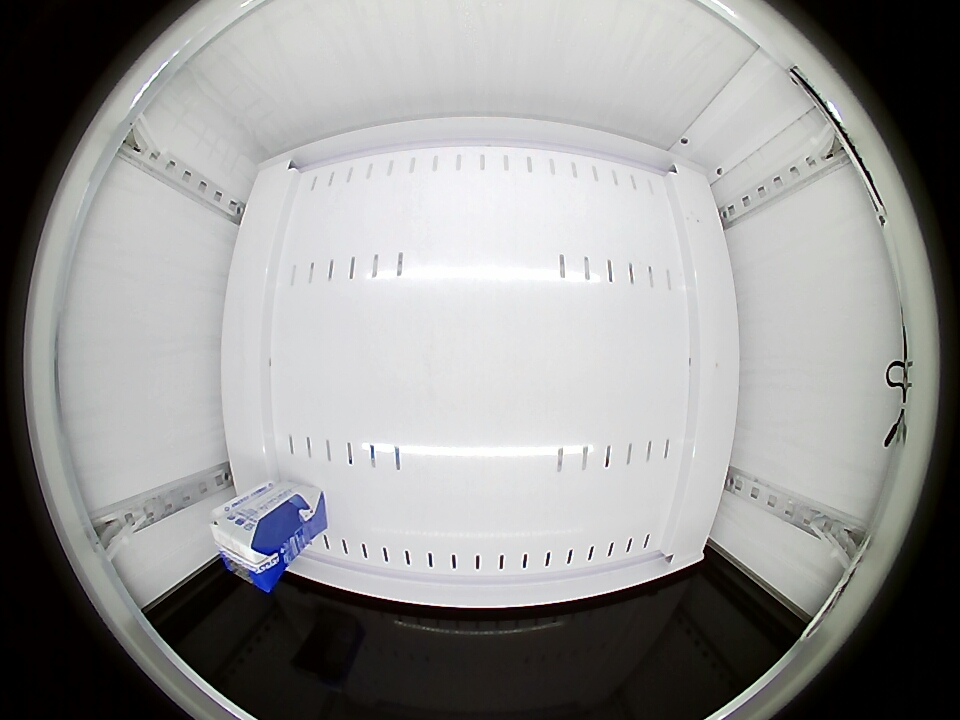anmuxi: (210, 506, 288, 592)
